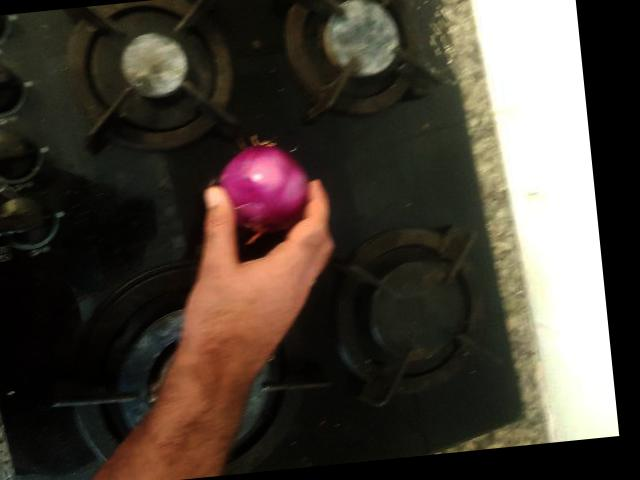onion: (330, 73, 434, 179)
